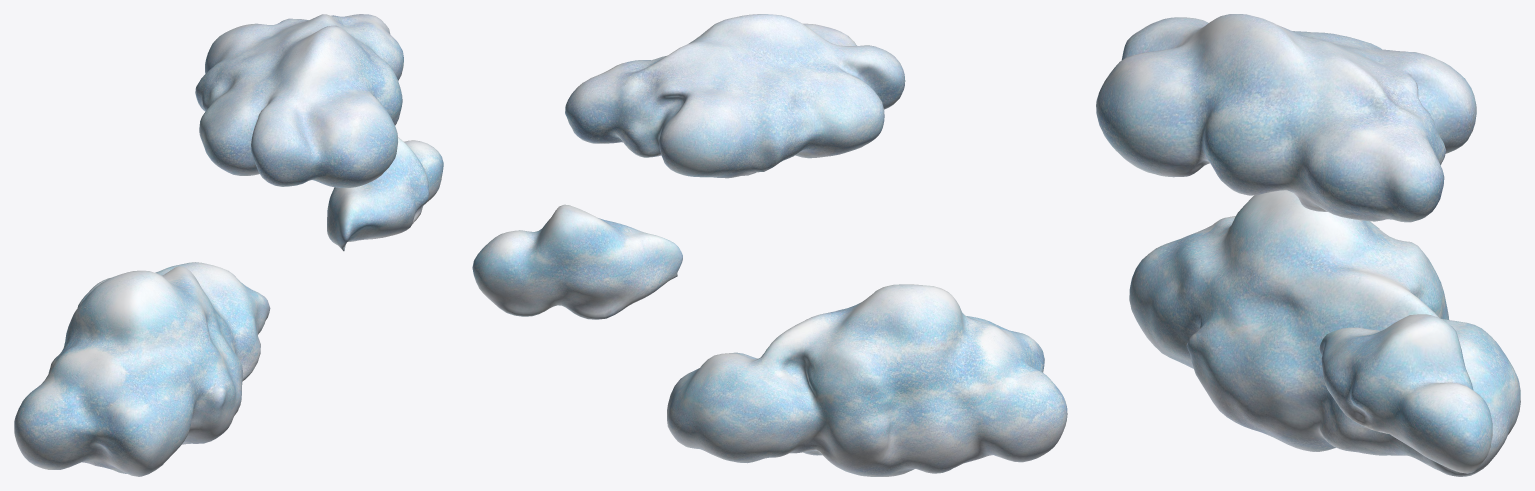
Rendered from manju (7).gltf.
3 views of the same model, side by side, from view 1: azimuth 30°, elevation 25°; view 2: azimuth 150°, elevation 25°; view 3: azimuth 270°, elevation 25° (orthographic). The views are drawn at different scales.
Parts seen in each view (by area): view 1: mesh; view 2: mesh; view 3: mesh.
Boxes of the visible parts, box(x1,y1,x2,y2) form: mesh: box(14, 14, 443, 476); mesh: box(472, 14, 1067, 476); mesh: box(1096, 14, 1520, 476).
Size of the model in its own units: 0.9994 by 0.7467 by 0.5714.
Materials: 1 (1 with a texture image).
